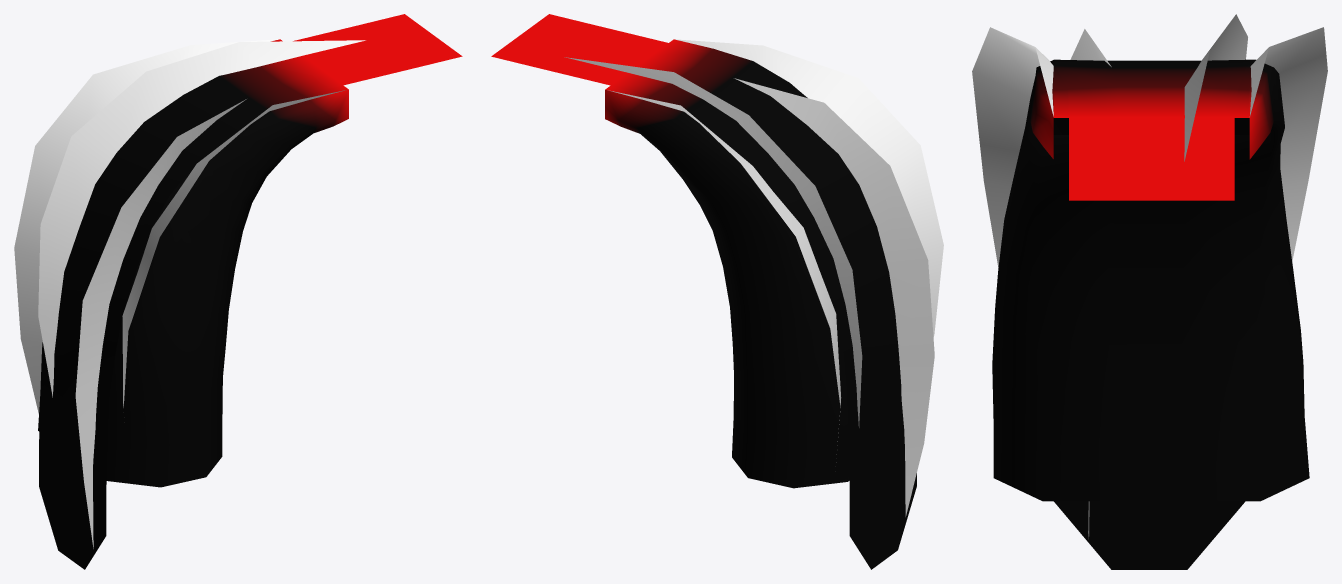
File: TFD_Waterfall_01A_Top.fbx
3 renders of one model, left to right at view 1: azimuth 30°, elevation 25°; view 2: azimuth 150°, elevation 25°; view 3: azimuth 270°, elevation 25°, orthographic. The views are drawn at different scales.
Visible parts, largest first — view 1: TFD_Waterfall_01A_Top; view 2: TFD_Waterfall_01A_Top; view 3: TFD_Waterfall_01A_Top.
Part boxes in pixels (bbox=[...]): TFD_Waterfall_01A_Top: bbox=[14, 14, 462, 569]; TFD_Waterfall_01A_Top: bbox=[491, 14, 943, 569]; TFD_Waterfall_01A_Top: bbox=[972, 14, 1327, 569].
Bounding box in the file's own units: 4.86 × 5.5 × 2.72.
